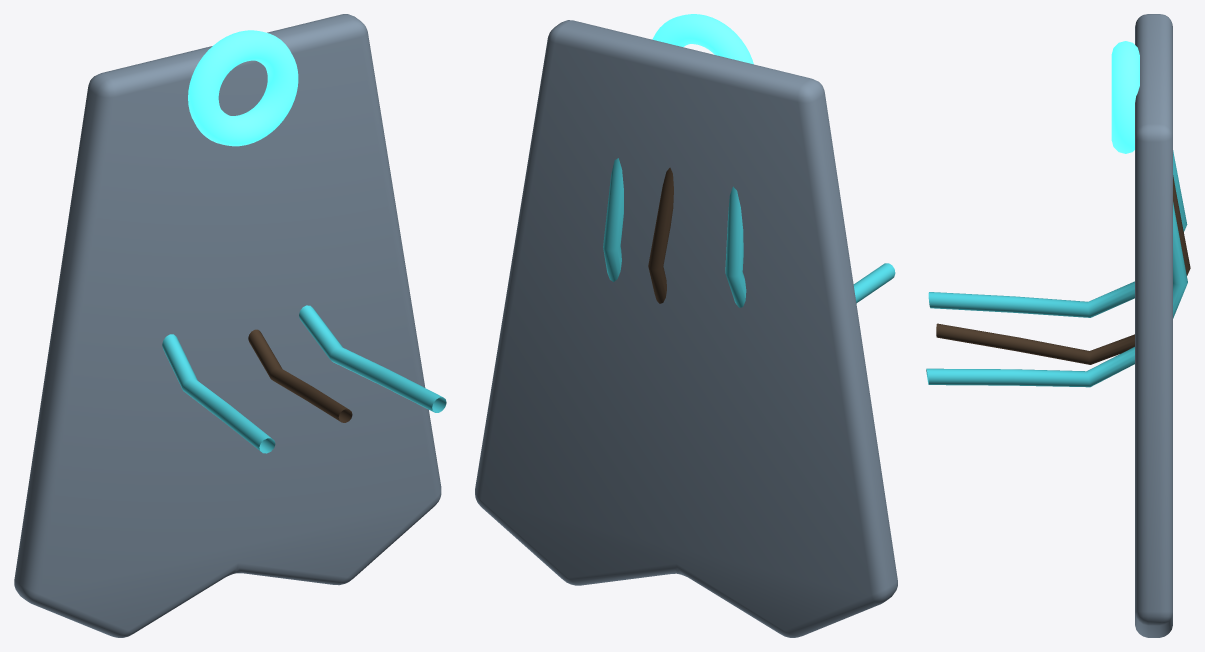
File: cloak.glb
The picture shows the model from 3 angles, left to right: view 1: azimuth 30°, elevation 25°; view 2: azimuth 150°, elevation 25°; view 3: azimuth 270°, elevation 25°; orthographic projection. The views are drawn at different scales.
Parts seen in each view (by area): view 1: CLOAK_FABRIC_PRIMARY, CLOAK_CLASP_EMISSIVE, CLOAK_FOLD_3_ACCENT, CLOAK_FOLD_1_ACCENT, CLOAK_FOLD_2_SECONDARY; view 2: CLOAK_FABRIC_PRIMARY, CLOAK_CLASP_EMISSIVE, CLOAK_FOLD_1_ACCENT, CLOAK_FOLD_2_SECONDARY, CLOAK_FOLD_3_ACCENT; view 3: CLOAK_FABRIC_PRIMARY, CLOAK_FOLD_3_ACCENT, CLOAK_FOLD_1_ACCENT, CLOAK_FOLD_2_SECONDARY, CLOAK_CLASP_EMISSIVE.
Part boxes in pixels (bbox=[...]): CLOAK_FABRIC_PRIMARY: bbox=[14, 14, 441, 637]; CLOAK_CLASP_EMISSIVE: bbox=[188, 30, 298, 146]; CLOAK_FOLD_3_ACCENT: bbox=[299, 305, 446, 412]; CLOAK_FOLD_1_ACCENT: bbox=[162, 334, 275, 453]; CLOAK_FOLD_2_SECONDARY: bbox=[248, 329, 352, 422]; CLOAK_FABRIC_PRIMARY: bbox=[475, 20, 897, 637]; CLOAK_CLASP_EMISSIVE: bbox=[652, 14, 753, 64]; CLOAK_FOLD_1_ACCENT: bbox=[725, 186, 895, 307]; CLOAK_FOLD_2_SECONDARY: bbox=[648, 167, 673, 303]; CLOAK_FOLD_3_ACCENT: bbox=[603, 158, 623, 281]; CLOAK_FABRIC_PRIMARY: bbox=[1135, 14, 1172, 637]; CLOAK_FOLD_3_ACCENT: bbox=[926, 202, 1187, 387]; CLOAK_FOLD_1_ACCENT: bbox=[928, 150, 1187, 317]; CLOAK_FOLD_2_SECONDARY: bbox=[936, 175, 1190, 364]; CLOAK_CLASP_EMISSIVE: bbox=[1111, 41, 1139, 153].
Size of the model in its own units: 1.88 by 2.53 by 1.12.
